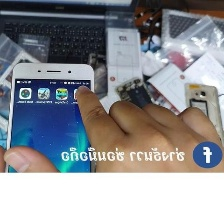phone: (0, 56, 100, 224), (177, 77, 223, 158), (111, 73, 168, 137)
